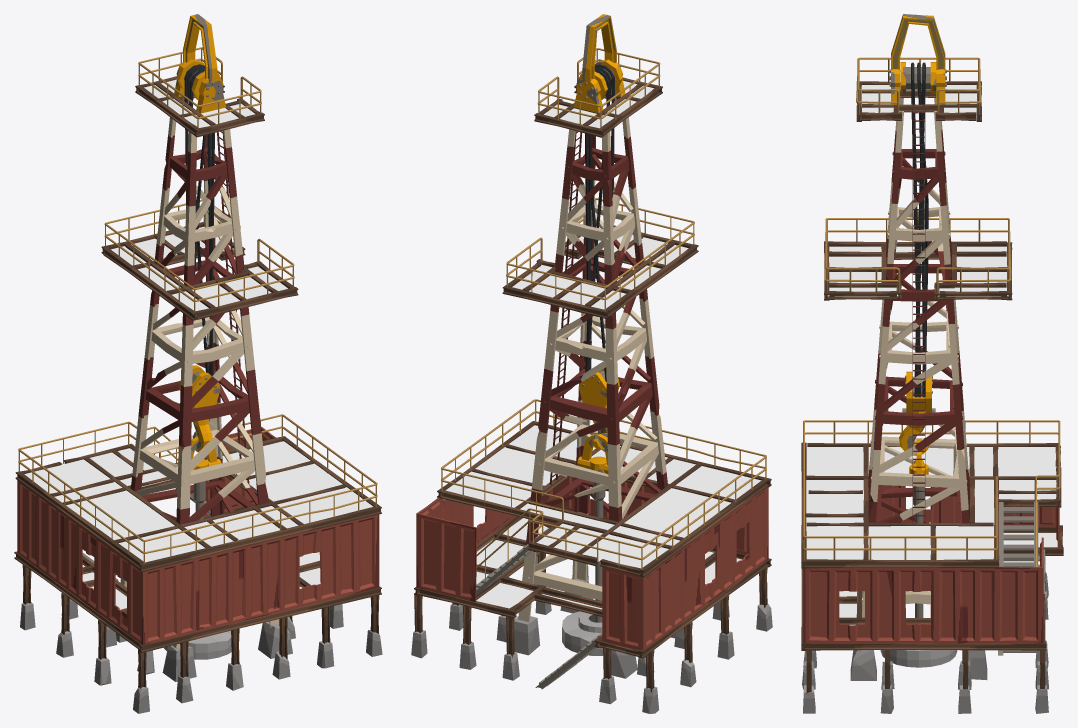
The model's file is GasTower_raw.glb.
3 views of the same model, side by side, from view 1: azimuth 30°, elevation 25°; view 2: azimuth 150°, elevation 25°; view 3: azimuth 270°, elevation 25° (orthographic). The views are drawn at different scales.
Visible parts, largest first — view 1: GasTower, GasTowerFloor; view 2: GasTower, GasTowerFloor; view 3: GasTower, GasTowerFloor.
Boxes of the visible parts, box(x1,y1,x2,y2) form: GasTower: box(14, 14, 382, 713); GasTowerFloor: box(24, 79, 373, 609); GasTower: box(411, 14, 772, 713); GasTowerFloor: box(445, 80, 761, 609); GasTower: box(801, 14, 1063, 713); GasTowerFloor: box(806, 85, 1057, 625).
Bounding box in the file's own units: 11.11 × 27.25 × 10.15.
2 materials, 1 textured.
